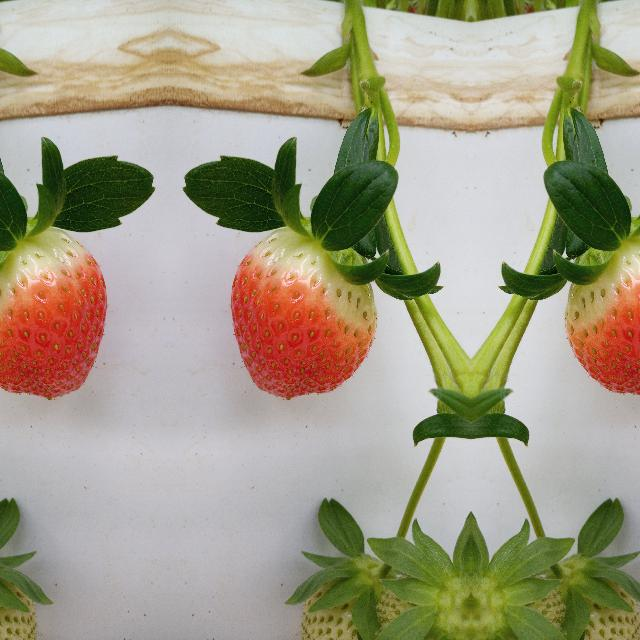Health_75: (228, 226, 378, 400), (0, 226, 107, 400), (563, 226, 640, 400)
